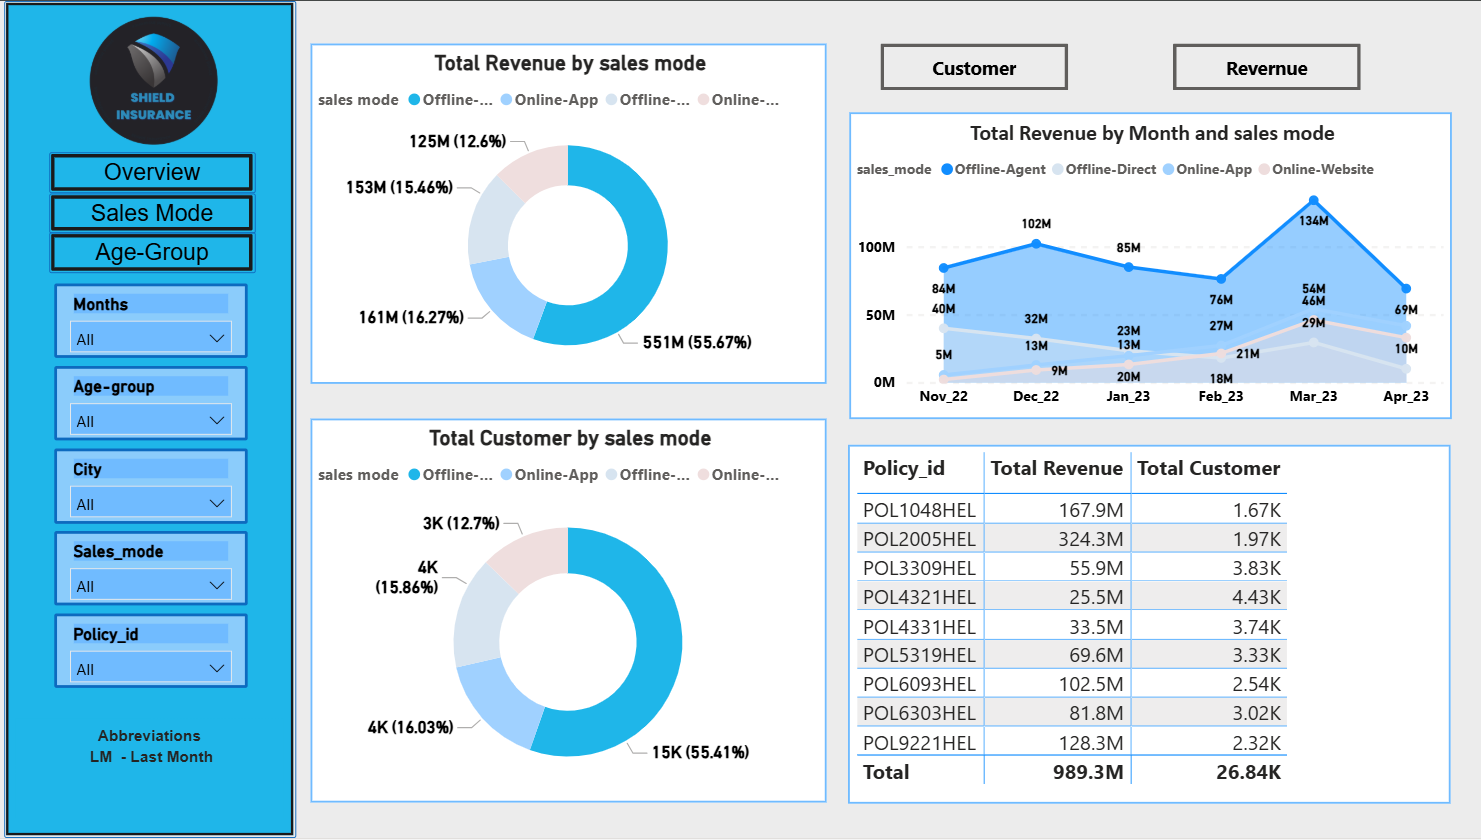

Layout of this report page (visuals, bound fields, positions):
{"tool":"powerbi","page":{"name":"Sales mode","canvas":[1280,720],"ordinal":2},"visuals":[{"type":"shape","box":[10,0,251,720],"z":0},{"type":"image","box":[46.5,8.6,183.4,119.8],"z":1000},{"type":"actionButton","box":[48.9,129.6,177.3,35.5],"z":2000},{"type":"actionButton","box":[48.9,165.1,177.3,34.2],"z":3000},{"type":"actionButton","box":[48.9,199.3,177.3,35.5],"z":4000},{"type":"slicer","fields":{"Values":["dim_date.mmm_yy"]},"box":[53,243,166,64],"z":5000},{"type":"slicer","fields":{"Values":["dim_customer.AgeGroup"]},"box":[53,313.8,166,64],"z":6000},{"type":"slicer","fields":{"Values":["dim_customer.city"]},"box":[53,384.5,166,65],"z":7000},{"type":"slicer","fields":{"Values":["fact_premiums.sales_mode"]},"box":[53,456.2,166,64],"z":8000},{"type":"slicer","fields":{"Values":["fact_premiums.policy_id"]},"box":[53,527,166,64],"z":9000},{"type":"textbox","box":[19.3,617.7,230.4,85.7],"z":10000},{"type":"donutChart","fields":{"Y":["Key metrics.Total Revenue"],"Category":["fact_premiums.sales_mode"]},"box":[272.7,36.2,444,293.2],"z":11000},{"type":"donutChart","fields":{"Category":["fact_premiums.sales_mode"],"Y":["Key metrics.Total Customer"]},"box":[272.7,359.5,444,330.6],"z":12000},{"type":"tableEx","fields":{"Values":["dim_policies.policy_id","Key metrics.Total Revenue","Key metrics.Total Customer"]},"box":[735.9,381.2,518.8,308.8],"z":13000},{"type":"lineChart","title":"Total Revenue by Month and sales mode","fields":{"Category":["DateTable.YearMonth"],"Series":["fact_premiums.sales_mode"],"Y":["Key metrics.Total Revenue"]},"box":[736.5,95.9,518.6,264.4],"z":15000},{"type":"actionButton","title":"customer button","box":[763,36.7,161.4,40.4],"z":16000},{"type":"actionButton","title":"revenue button","box":[1015,36.7,161.4,40.4],"z":17000}]}

Visuals, with their boxes in screenshot pixels (x1, y1, x2, y2), scaled from the page's 1280x720 canvas onto the 1481x840 screenshot:
shape: locate(12, 0, 302, 839)
image: locate(54, 10, 266, 150)
actionButton: locate(57, 151, 262, 193)
actionButton: locate(57, 193, 262, 233)
actionButton: locate(57, 233, 262, 274)
slicer - dim_date.mmm_yy: locate(61, 284, 253, 358)
slicer - dim_customer.AgeGroup: locate(61, 366, 253, 441)
slicer - dim_customer.city: locate(61, 449, 253, 524)
slicer - fact_premiums.sales_mode: locate(61, 532, 253, 607)
slicer - fact_premiums.policy_id: locate(61, 615, 253, 690)
textbox: locate(22, 721, 289, 821)
donutChart - Key metrics.Total Revenue x fact_premiums.sales_mode: locate(316, 42, 829, 384)
donutChart - fact_premiums.sales_mode x Key metrics.Total Customer: locate(316, 419, 829, 805)
tableEx - dim_policies.policy_id x Key metrics.Total Revenue: locate(851, 445, 1452, 805)
"Total Revenue by Month and sales mode" lineChart: locate(852, 112, 1452, 420)
"customer button" actionButton: locate(883, 43, 1070, 90)
"revenue button" actionButton: locate(1174, 43, 1361, 90)
